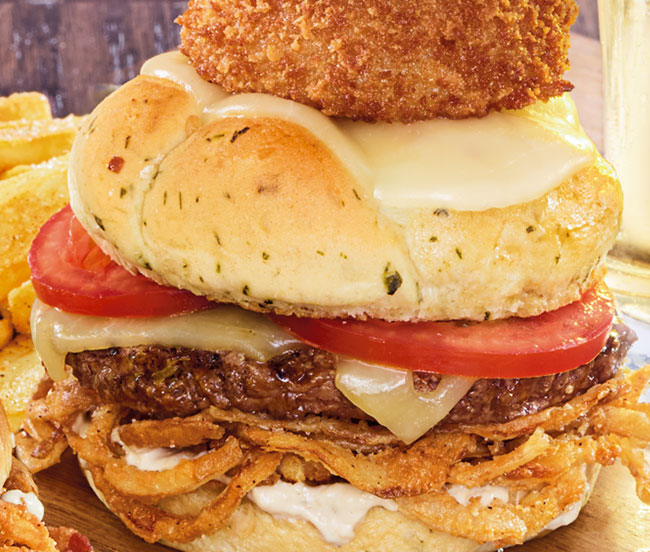hamburger_buns: (96, 54, 623, 317), (209, 482, 630, 549)
